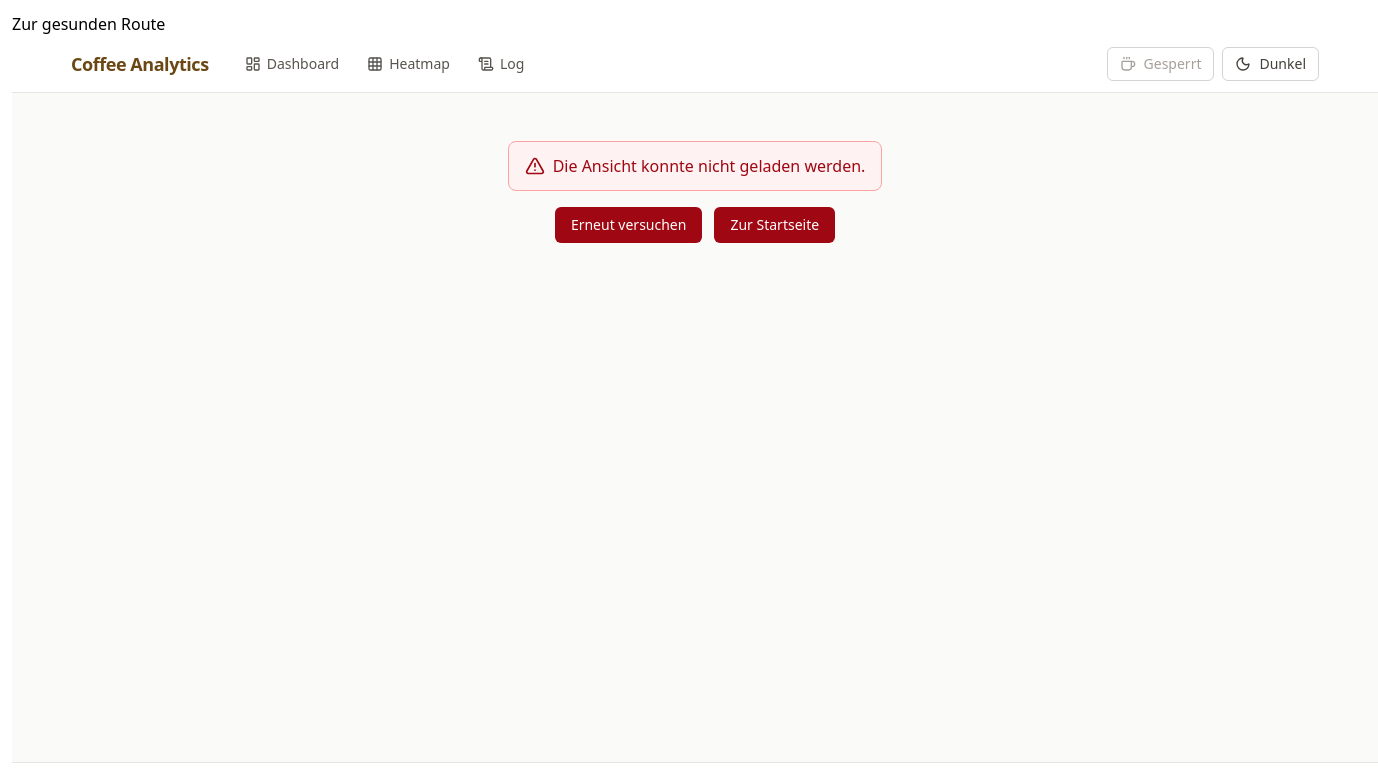
Scenario: AppShell route error boundary › recovers when navigating to another route after a page render error
The width and height of the screenshot is (1378, 775).
expect the text "Die Ansicht konnte nicht geladen werden." is shown: met, box [553,154,865,178]
Click the link "Zur gesunden Route": (89, 24) [12,13,165,35]
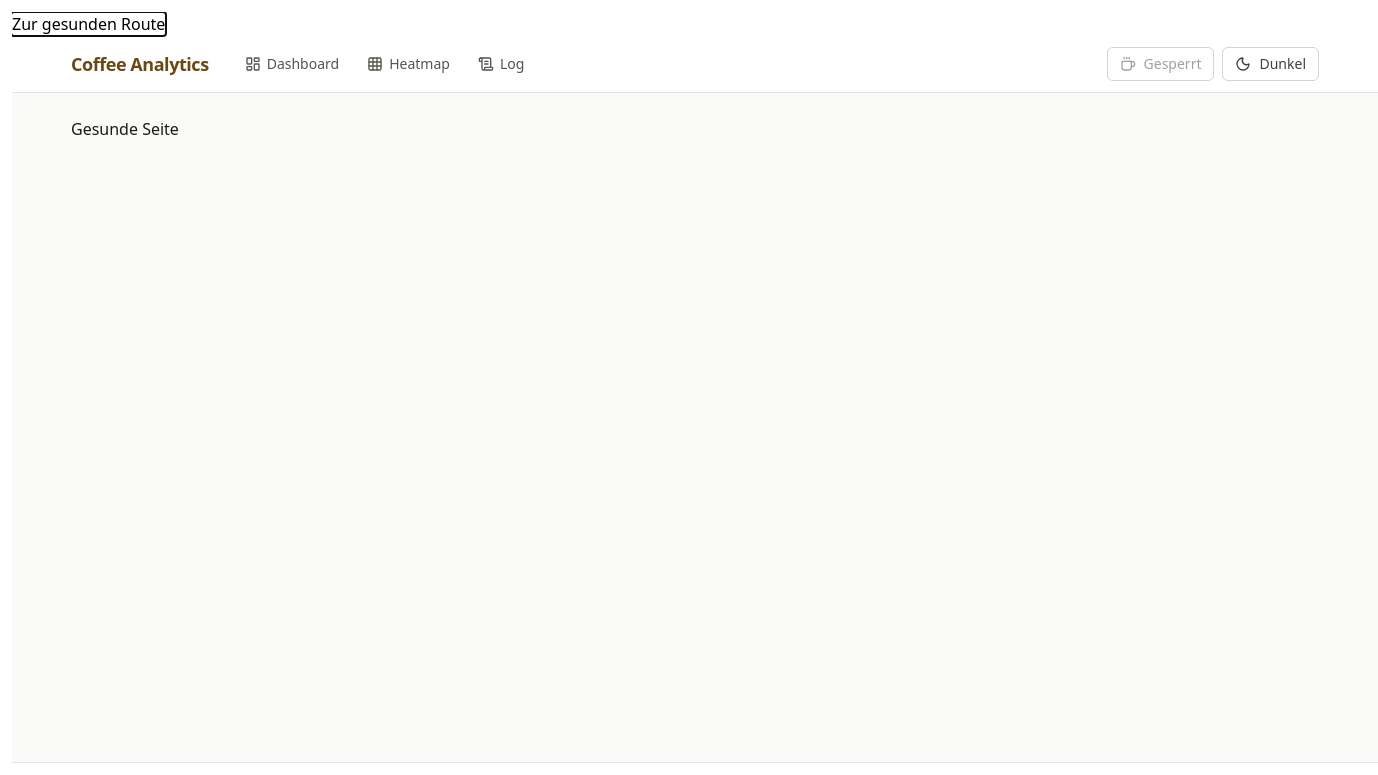
expect the text "Gesunde Seite" is shown: met, box [71,118,179,140]
expect the text "Die Ansicht konnte nicht geladen werden." is gone: met
